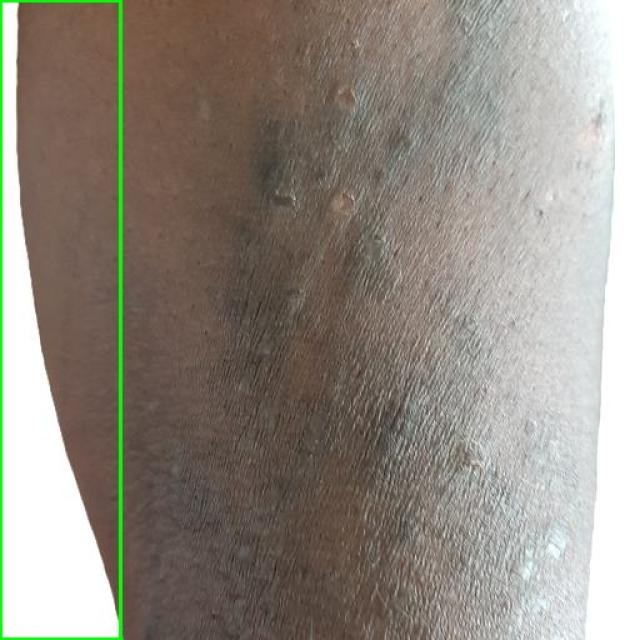Contact Dermatitis: (0, 0, 120, 639)
